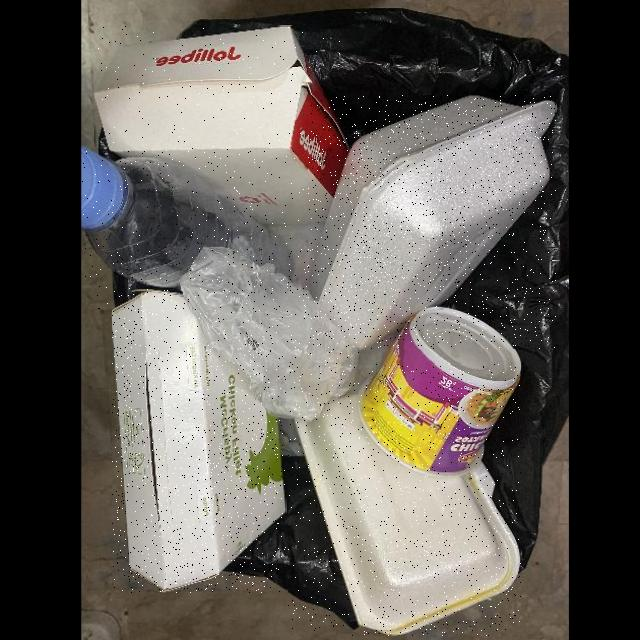paper: (113, 290, 286, 592), (95, 26, 350, 230)
plastic: (82, 147, 292, 310), (181, 244, 361, 419)
styrofoam: (288, 364, 521, 635), (309, 95, 556, 349)
